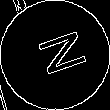N_W: (25, 28, 85, 82)
